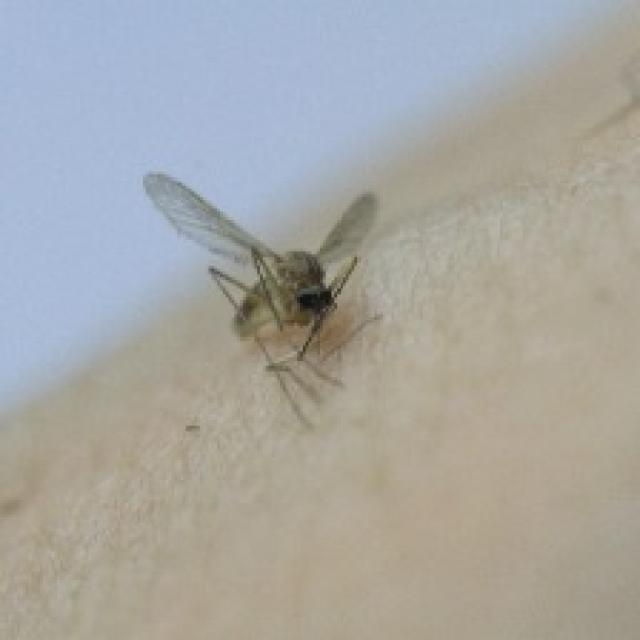culex: (140, 166, 380, 431)
